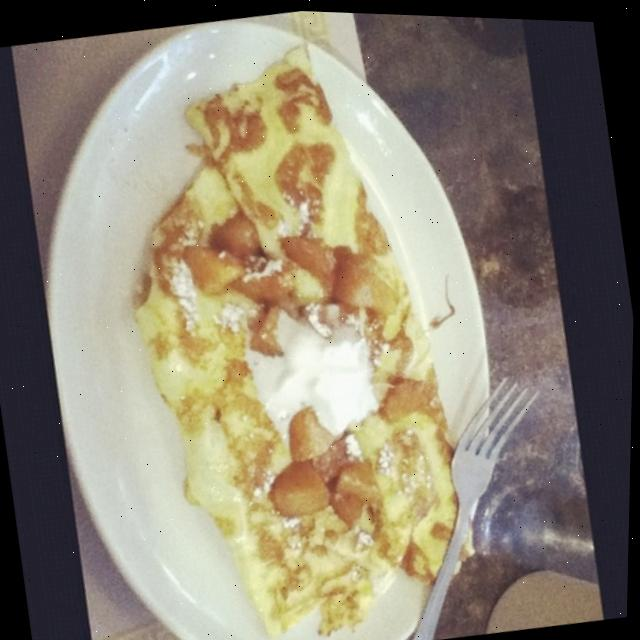蛋糕甜品: (40, 1, 550, 640)
